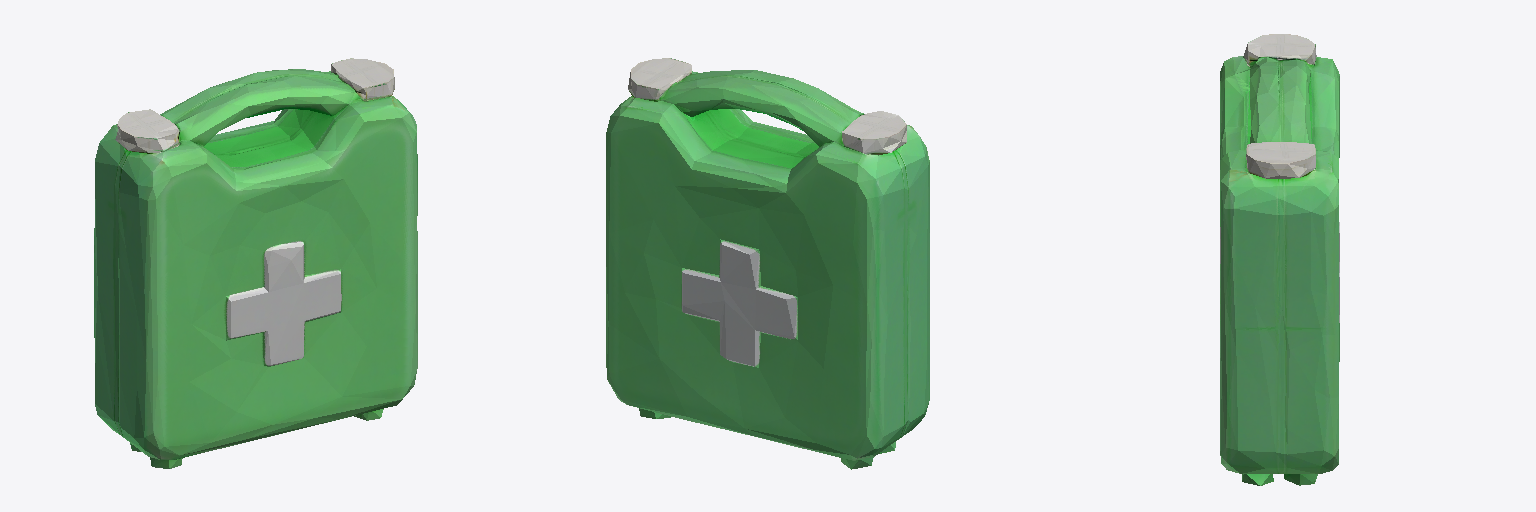
The picture shows the model from 3 angles: view 1: azimuth 30°, elevation 25°; view 2: azimuth 150°, elevation 25°; view 3: azimuth 270°, elevation 25°; orthographic projection.
Visible parts, largest first — view 1: a_health_pack_[number redacted]_texture; view 2: a_health_pack_[number redacted]_texture; view 3: a_health_pack_[number redacted]_texture.
Part boxes in pixels (x1,y1,x2,y2): a_health_pack_[number redacted]_texture: (94,58,417,468); a_health_pack_[number redacted]_texture: (606,58,929,469); a_health_pack_[number redacted]_texture: (1220,34,1339,485).
Size of the model in its own units: 1.66 by 2.01 by 0.6245.
1 materials, 1 textured.